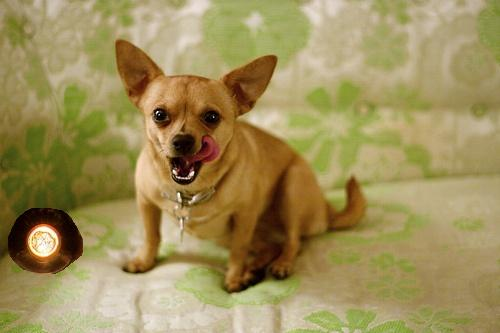tampered: (9, 209, 83, 274)
